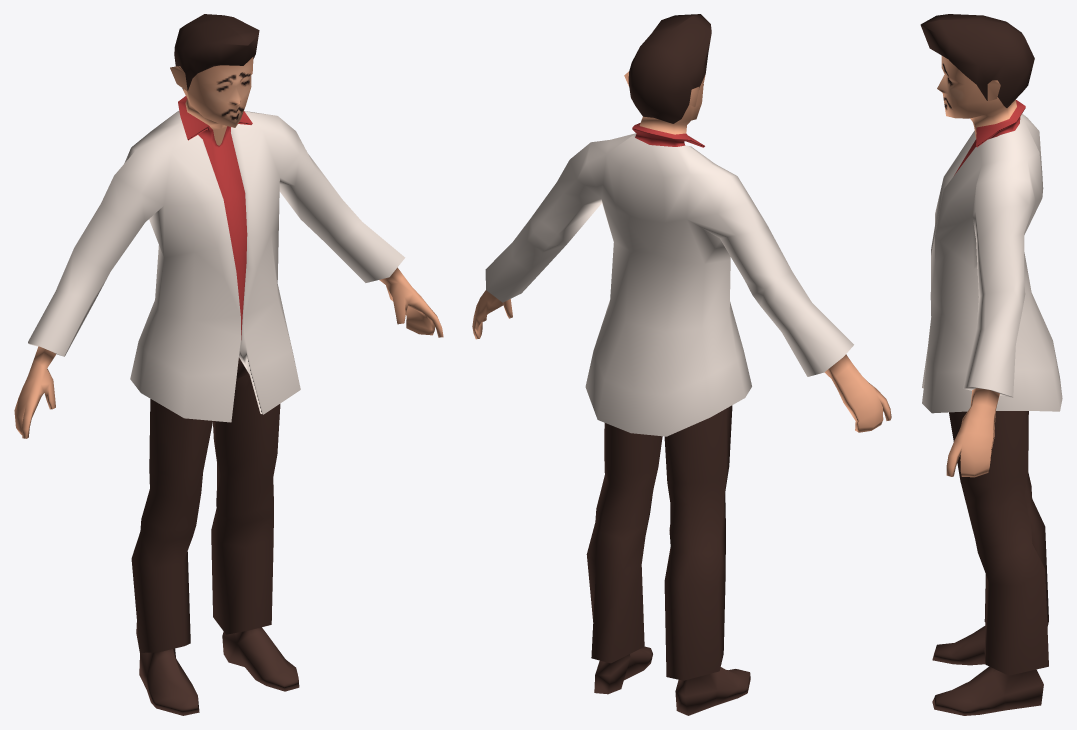
File: CharElvis.fbx
3 views of the same model, side by side, from view 1: azimuth 30°, elevation 25°; view 2: azimuth 150°, elevation 25°; view 3: azimuth 270°, elevation 25° (orthographic). The views are drawn at different scales.
Parts seen in each view (by area): view 1: CharElvis; view 2: CharElvis; view 3: CharElvis.
Part boxes in pixels (left/top/right/bottom): CharElvis: left=14, top=14, right=443, bottom=715; CharElvis: left=472, top=14, right=891, bottom=715; CharElvis: left=920, top=14, right=1062, bottom=715.
Bounding box in the file's own units: 120 × 182 × 35.33.
